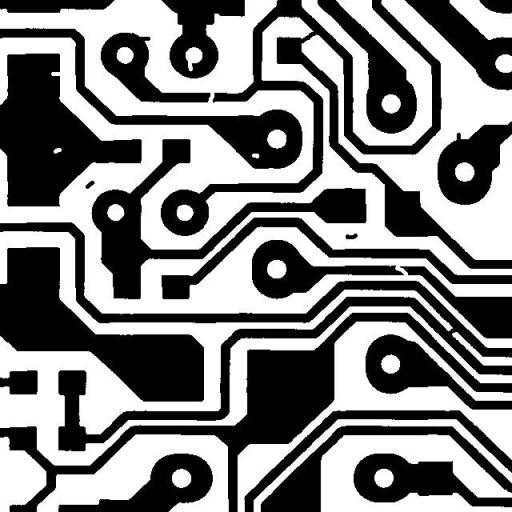copper: (78, 173, 102, 196), (338, 226, 364, 246)
mousebite: (180, 52, 200, 78), (43, 64, 70, 83)
open: (387, 258, 415, 284), (200, 83, 222, 111)
pin-hole: (46, 140, 68, 161), (244, 146, 266, 166)
short: (287, 22, 325, 50), (437, 317, 466, 343)
spur: (128, 29, 158, 48), (449, 124, 468, 150)
